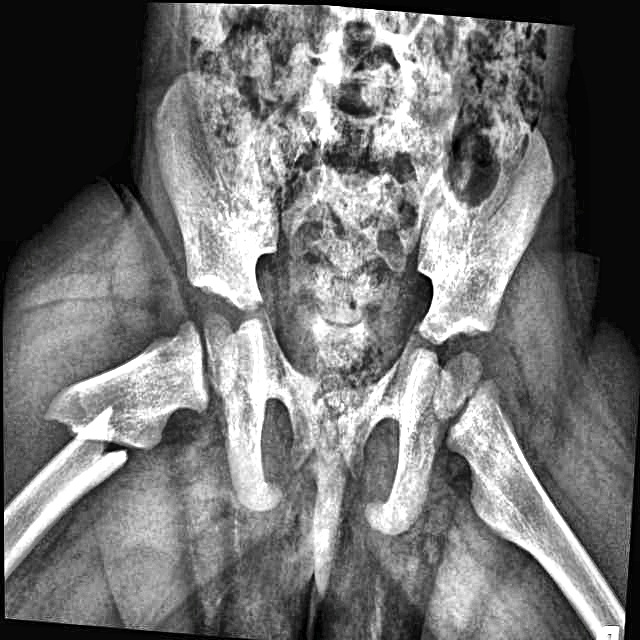Transverse: (29, 369, 155, 498)
